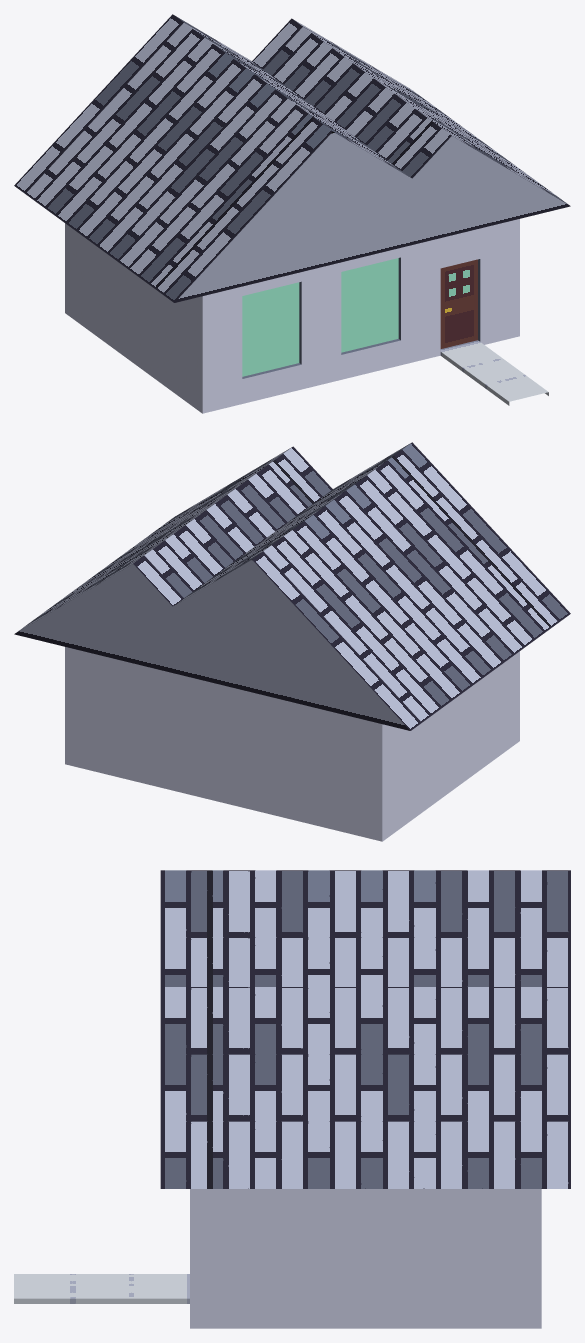
File: house_small.glb
3 views of the same model, one above another, from view 1: azimuth 30°, elevation 25°; view 2: azimuth 150°, elevation 25°; view 3: azimuth 270°, elevation 25° (orthographic). The views are drawn at different scales.
Parts seen in each view (by area): view 1: Roof, House, Walkway; view 2: Roof, House; view 3: Roof, House, Walkway.
Boxes of the visible parts, x1,y1,x2,y2 form: Roof: (14, 14, 570, 302); House: (65, 219, 519, 413); Walkway: (440, 342, 548, 405); Roof: (14, 442, 570, 730); House: (65, 647, 519, 841); Roof: (160, 870, 570, 1188); House: (190, 1189, 541, 1328); Walkway: (14, 1274, 189, 1303).
Size of the model in its own units: 10 by 6.3 by 9.5.
Materials: 1 (1 with a texture image).
